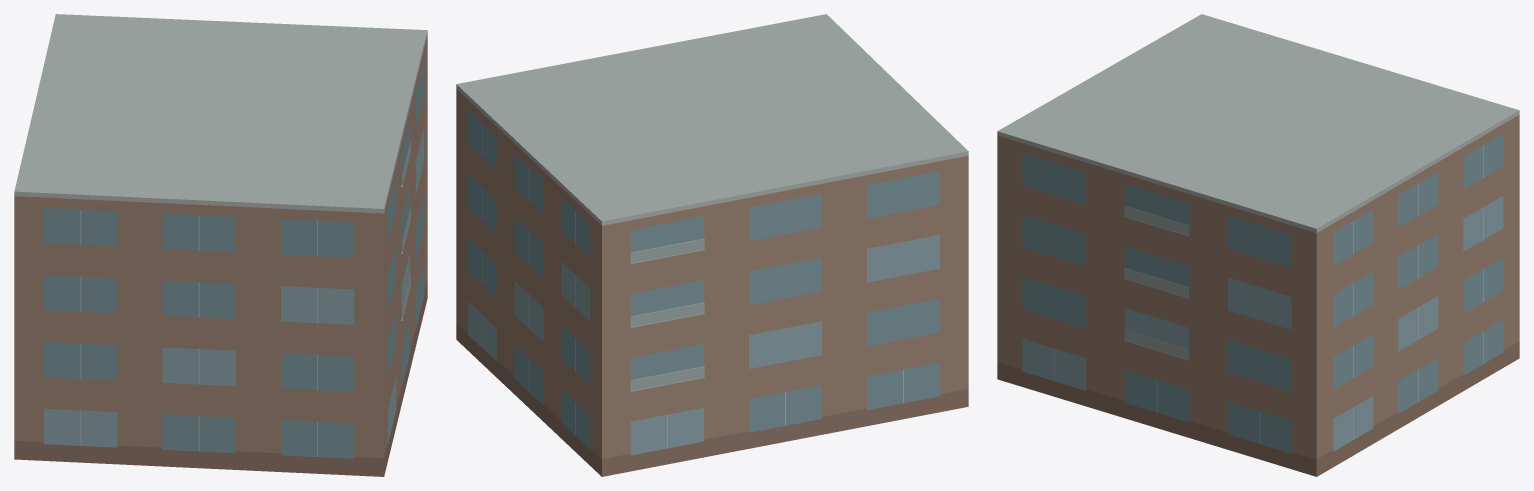
The model's file is survey-upis-32914087.glb.
3 renders of one model, left to right at view 1: azimuth 30°, elevation 25°; view 2: azimuth 150°, elevation 25°; view 3: azimuth 270°, elevation 25°, orthographic. The views are drawn at different scales.
Visible parts, largest first — view 1: survey-upis-32914087.tmp; view 2: survey-upis-32914087.tmp; view 3: survey-upis-32914087.tmp.
Boxes of the visible parts, x1=… form: survey-upis-32914087.tmp: x1=14, y1=14, x2=427, y2=476; survey-upis-32914087.tmp: x1=456, y1=14, x2=968, y2=476; survey-upis-32914087.tmp: x1=997, y1=14, x2=1519, y2=476.
Size of the model in its own units: 26.57 by 14.3 by 27.29.
